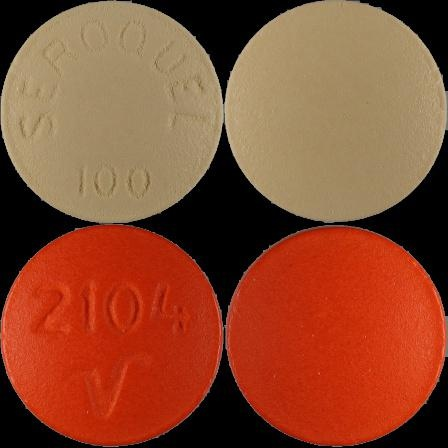16590-520: (0, 0, 224, 224)
